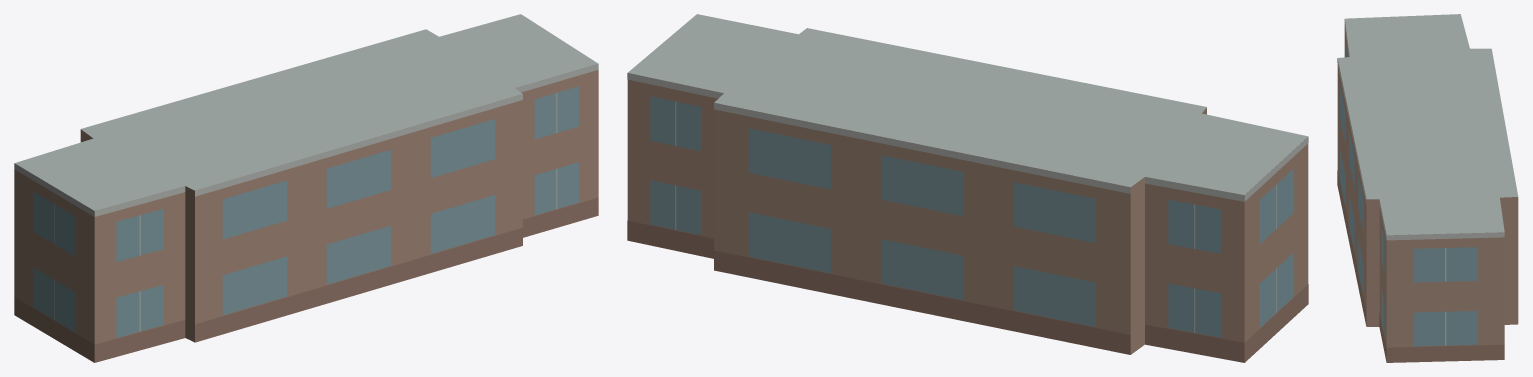
File: survey-upis-32586021.glb
3 renders of one model, left to right at view 1: azimuth 30°, elevation 25°; view 2: azimuth 150°, elevation 25°; view 3: azimuth 270°, elevation 25°, orthographic. The views are drawn at different scales.
Parts seen in each view (by area): view 1: survey-upis-32586021.tmp; view 2: survey-upis-32586021.tmp; view 3: survey-upis-32586021.tmp.
Boxes of the visible parts, left/top/right/bottom form: survey-upis-32586021.tmp: left=14, top=14, right=598, bottom=362; survey-upis-32586021.tmp: left=627, top=14, right=1308, bottom=362; survey-upis-32586021.tmp: left=1337, top=14, right=1518, bottom=362.
Size of the model in its own units: 22.7 by 6.1 by 7.84.
